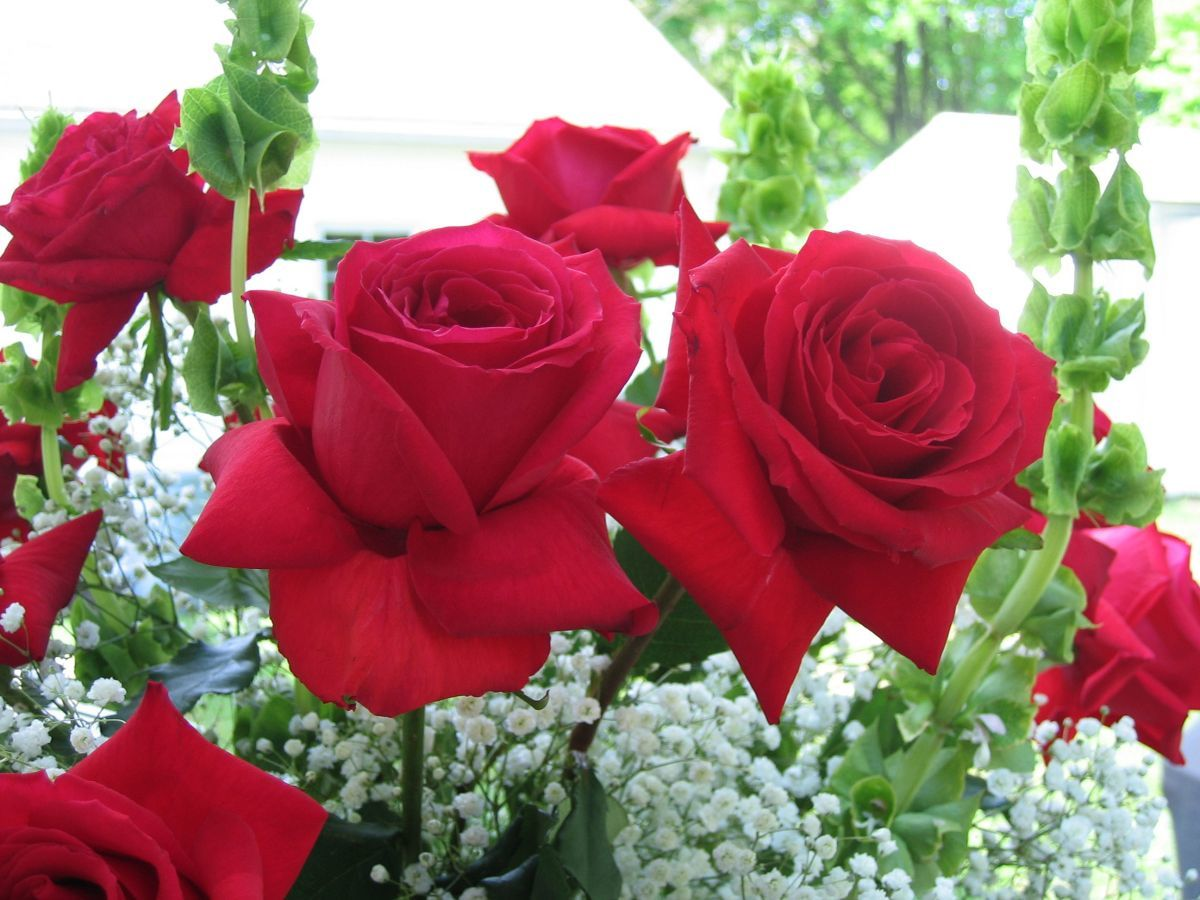Rose: (216, 224, 660, 701), (637, 236, 1059, 721), (2, 93, 294, 356), (483, 111, 718, 278), (1072, 505, 1200, 768)
